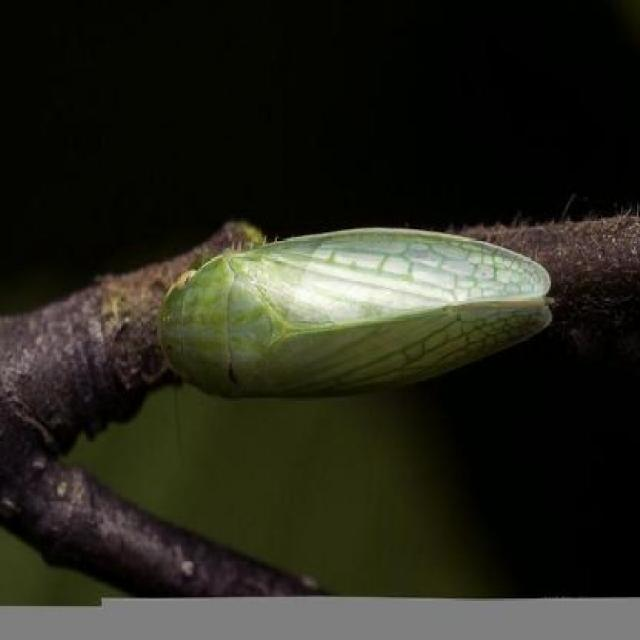green-leafhopper: (154, 236, 554, 384)
